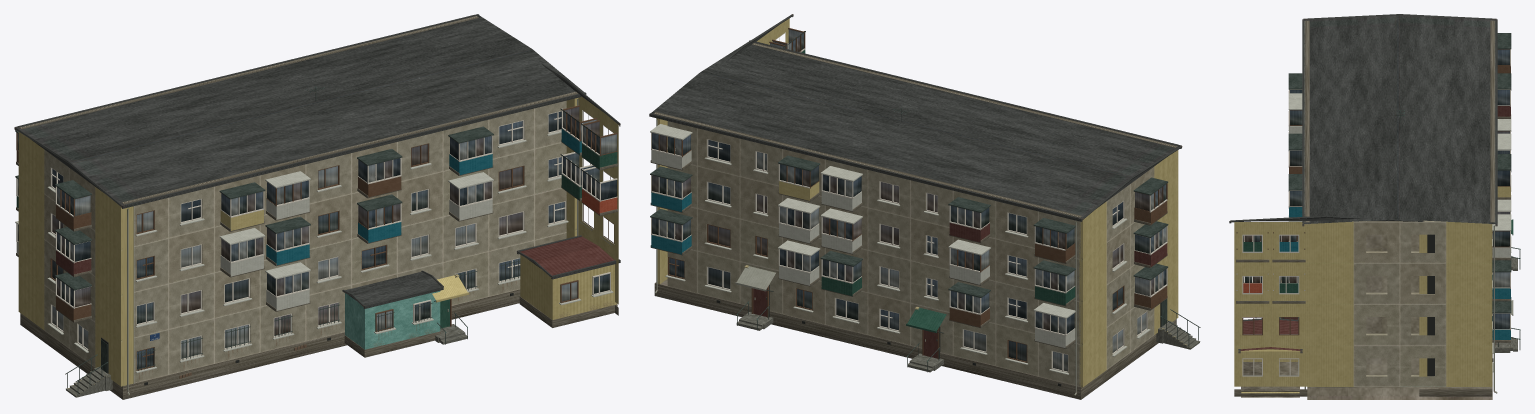
Rendered from res_block_a.glb.
The picture shows the model from 3 angles, left to right: view 1: azimuth 30°, elevation 25°; view 2: azimuth 150°, elevation 25°; view 3: azimuth 270°, elevation 25°; orthographic projection. The views are drawn at different scales.
Parts seen in each view (by area): view 1: res_block_a; view 2: res_block_a; view 3: res_block_a.
Boxes of the visible parts, bbox=[...] form: res_block_a: bbox=[14, 14, 620, 399]; res_block_a: bbox=[649, 14, 1200, 399]; res_block_a: bbox=[1229, 14, 1520, 399].
Bounding box in the file's own units: 31.95 × 13.28 × 17.96.
Materials: 6 (3 with a texture image).
